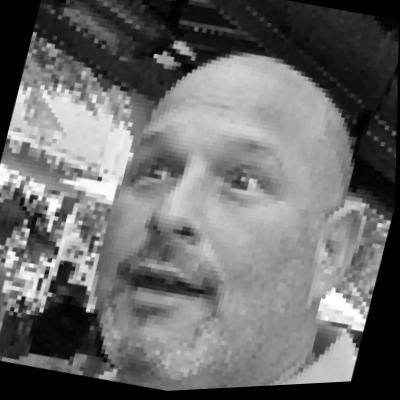surprise: (76, 47, 356, 394)
